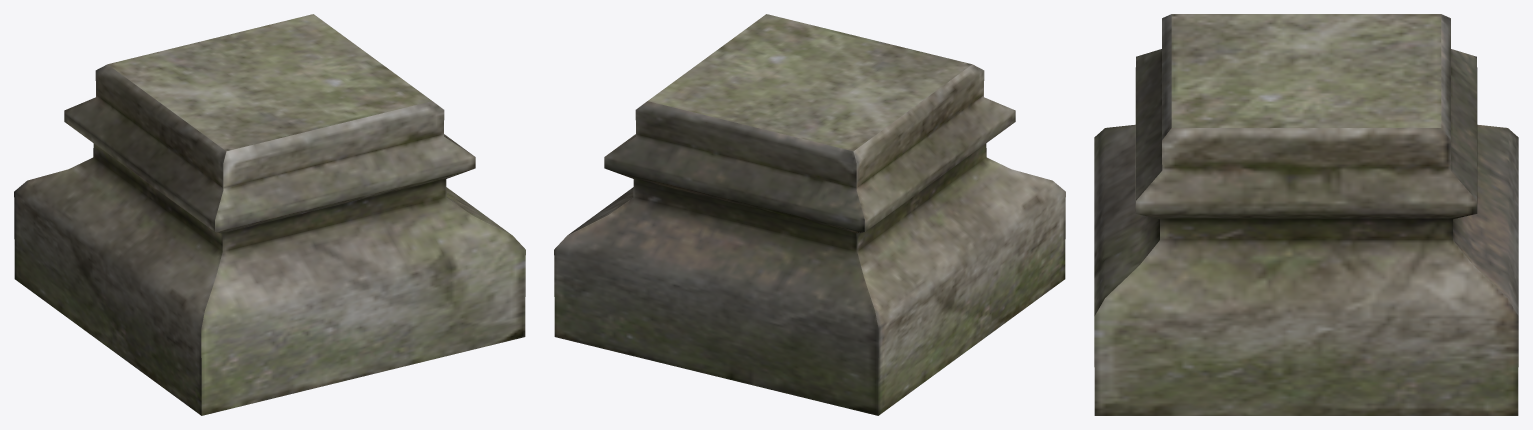
File: a_stone001.FBX
3 renders of one model, left to right at view 1: azimuth 30°, elevation 25°; view 2: azimuth 150°, elevation 25°; view 3: azimuth 270°, elevation 25°, orthographic. The views are drawn at different scales.
Parts seen in each view (by area): view 1: a_stone001; view 2: a_stone001; view 3: a_stone001.
Part boxes in pixels (box(x1,y1,x2,y2)): a_stone001: box(14, 14, 525, 415); a_stone001: box(554, 14, 1065, 415); a_stone001: box(1094, 14, 1518, 415).
Size of the model in its own units: 212 by 140 by 212.
